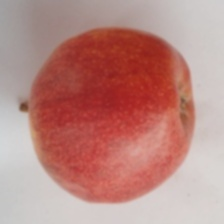apple: (11, 48, 173, 187)
